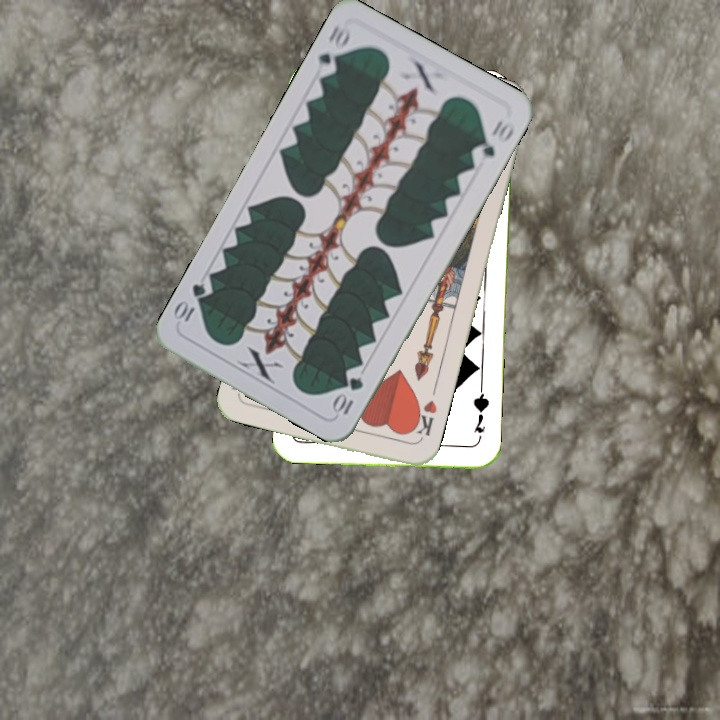G10: (312, 21, 353, 79), (329, 373, 366, 418)
G7: (469, 385, 492, 435)
HK: (407, 396, 440, 444)
